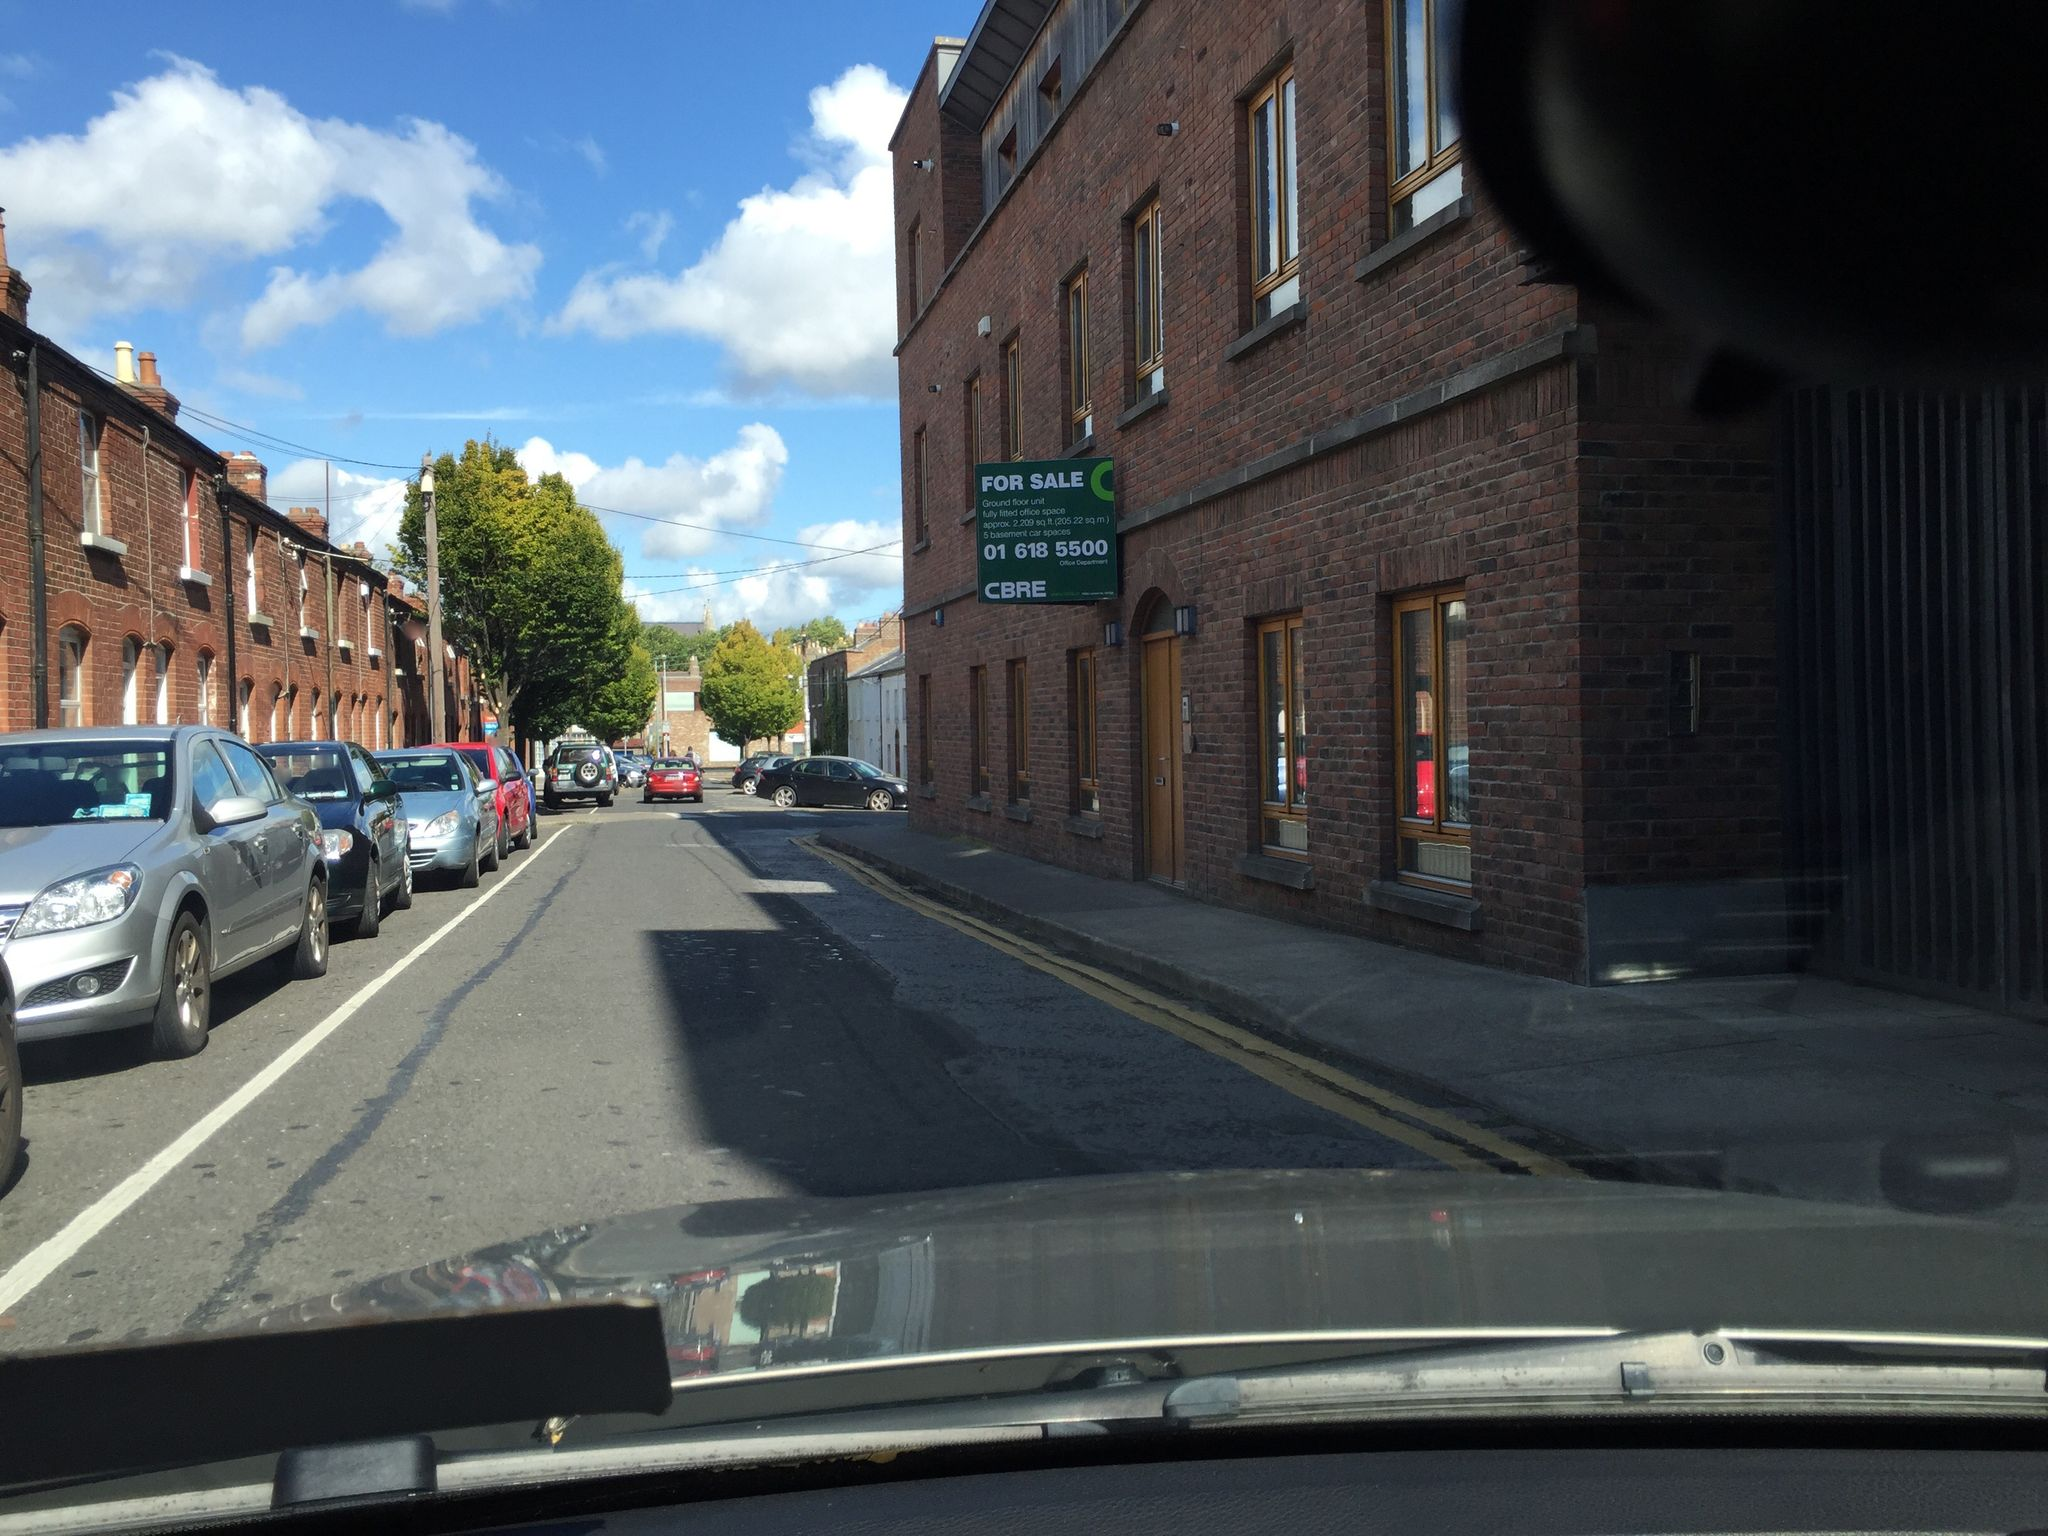property sign: (961, 434, 1140, 611)
